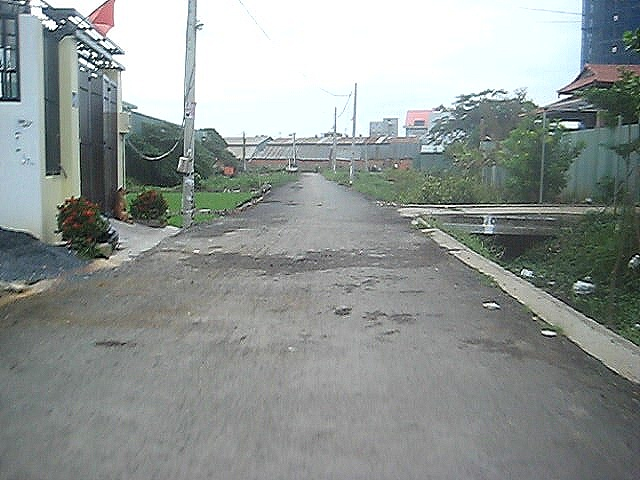hole: (89, 338, 135, 348), (288, 255, 320, 265)
